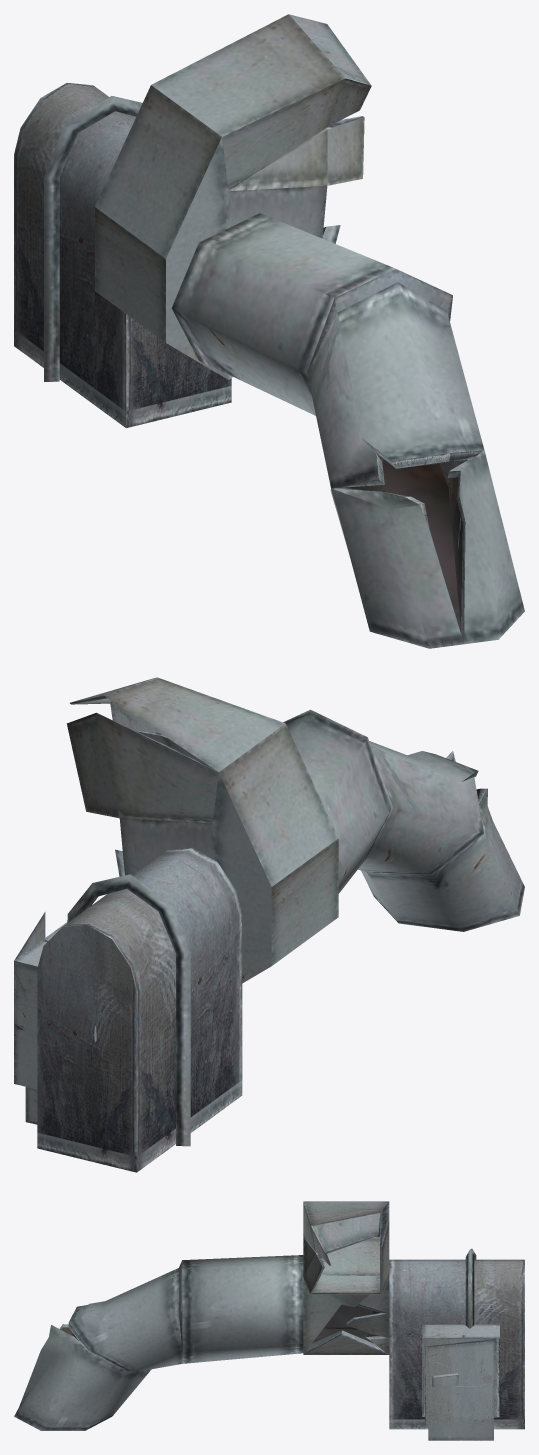
The model's file is Air_vent_roof1.fbx.
The picture shows the model from 3 angles, top to bottom: view 1: azimuth 30°, elevation 25°; view 2: azimuth 150°, elevation 25°; view 3: azimuth 270°, elevation 25°; orthographic projection. The views are drawn at different scales.
Parts seen in each view (by area): view 1: Air_vent_roof1; view 2: Air_vent_roof1; view 3: Air_vent_roof1.
Boxes of the visible parts, box(x1,y1,x2,y2) form: Air_vent_roof1: box(14, 14, 524, 648); Air_vent_roof1: box(14, 677, 524, 1172); Air_vent_roof1: box(14, 1201, 524, 1440).
Bounding box in the file's own units: 97.32 × 159 × 318.
